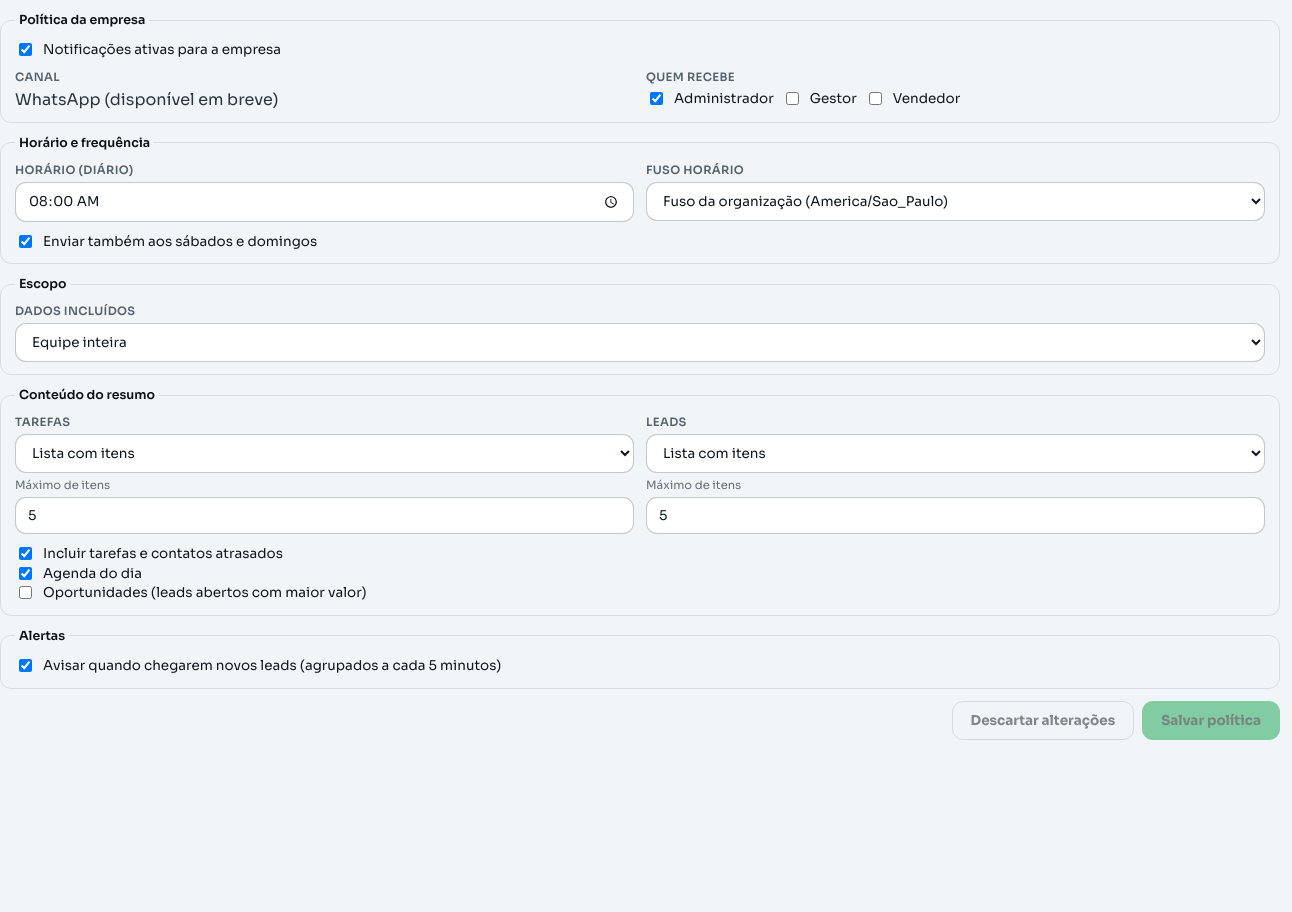
it: CompanyPolicyPanel › mostra o padrão aprovado e só salva por ação explícita
expect the button "Salvar política" is disabled: met, box [1142, 700, 1280, 740]
Replace the text in the time field labelled "Horário (diário)" with "07:30" at (324, 202), box [15, 182, 634, 222]
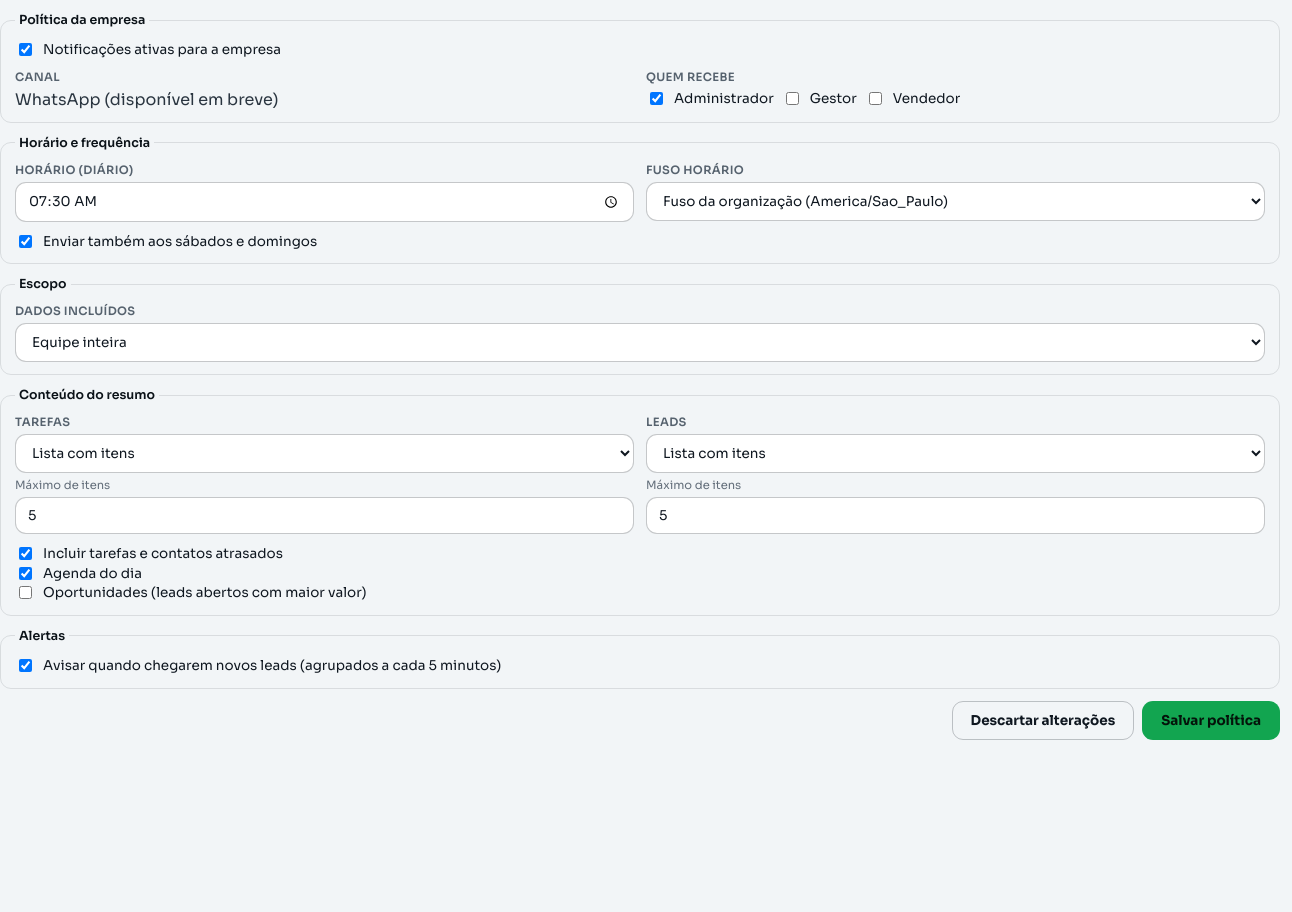
expect the button "Salvar política" is enabled: met, box [1142, 700, 1280, 740]
